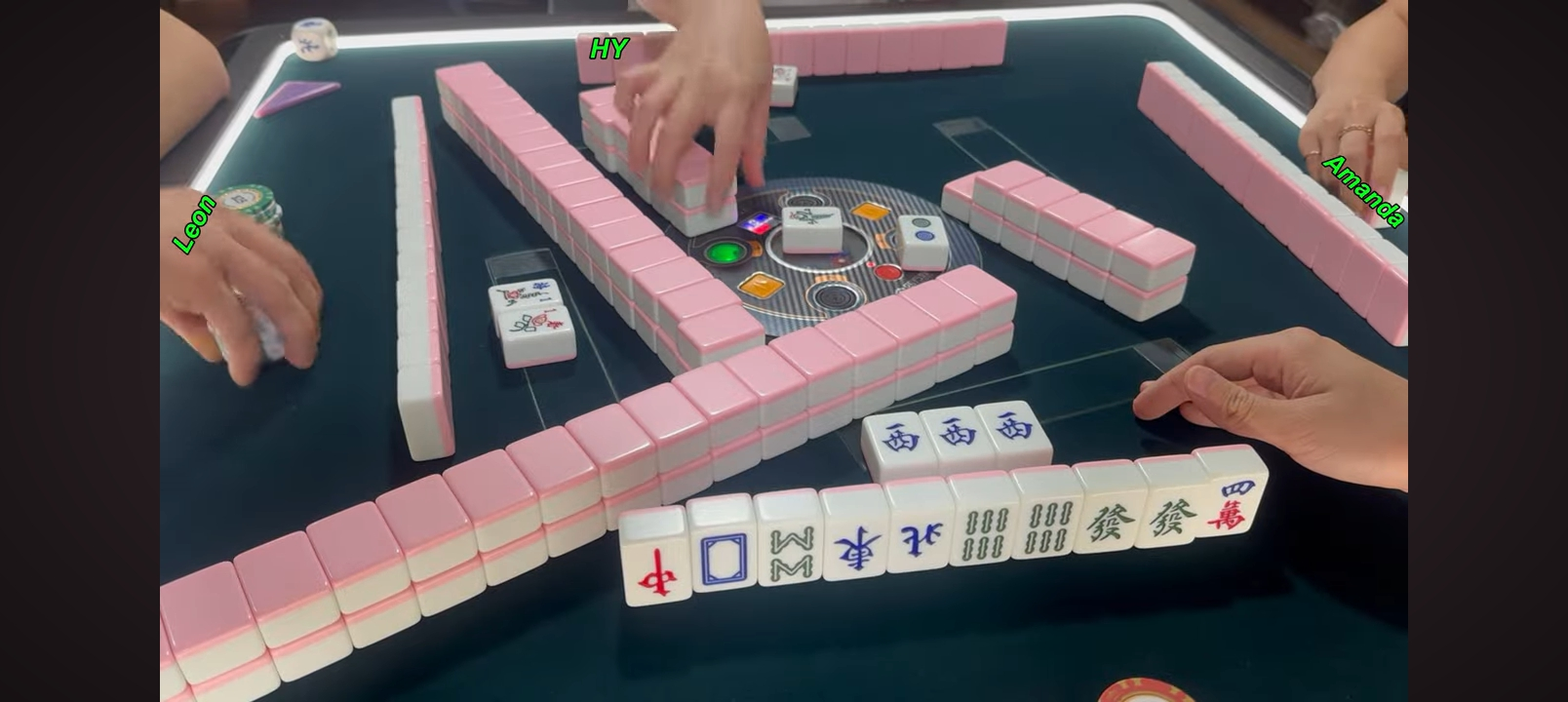TILE: (689, 527, 758, 591), (621, 541, 690, 604), (759, 524, 825, 585), (1080, 492, 1147, 552), (826, 519, 889, 579), (890, 513, 954, 572), (955, 507, 1019, 565), (1206, 478, 1270, 536), (863, 412, 935, 463), (1022, 499, 1083, 558), (979, 404, 1052, 453), (922, 407, 989, 459), (1146, 488, 1207, 545)
